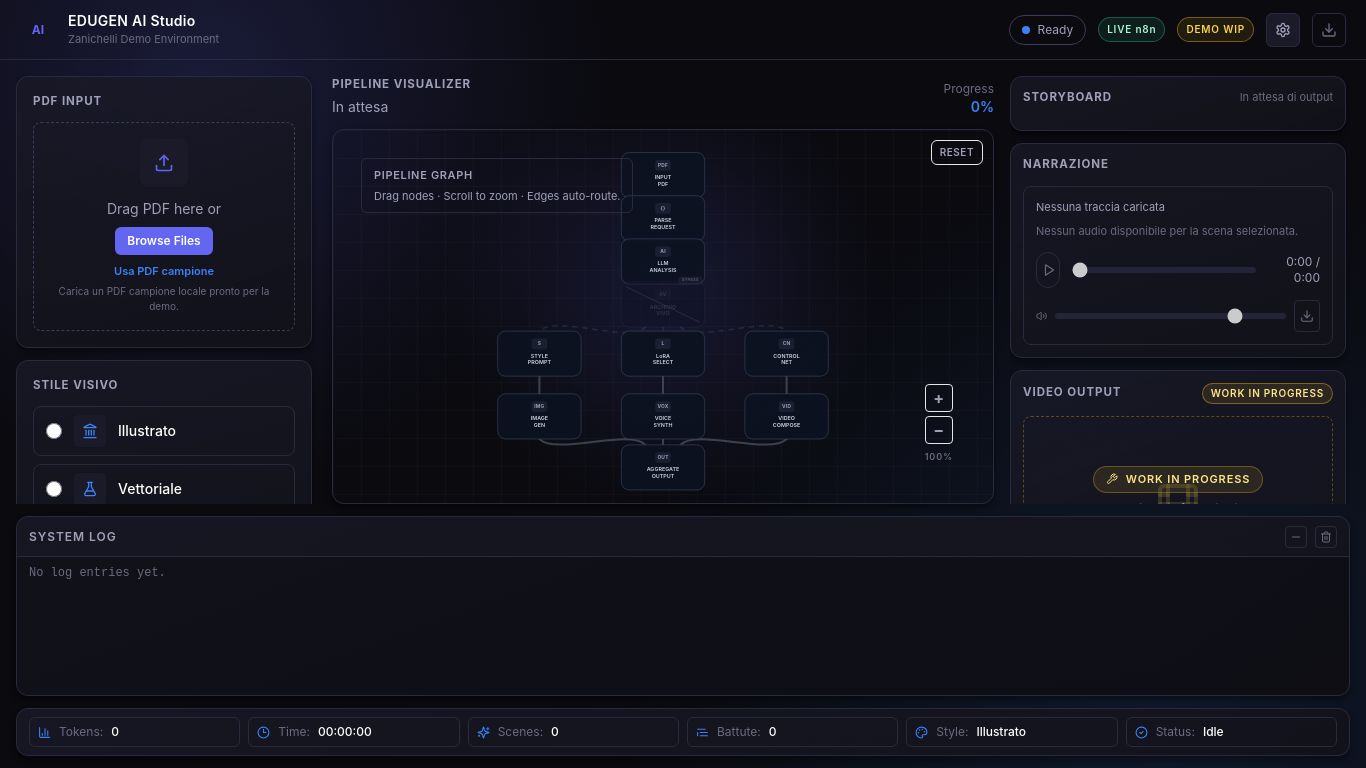
Test: App failure and degraded paths › fails safely on requestId mismatch
The width and height of the screenshot is (1366, 768).
Click the button "Usa PDF campione". click: click(164, 272)
box: 114,263 -> 214,280
(page scrolled)
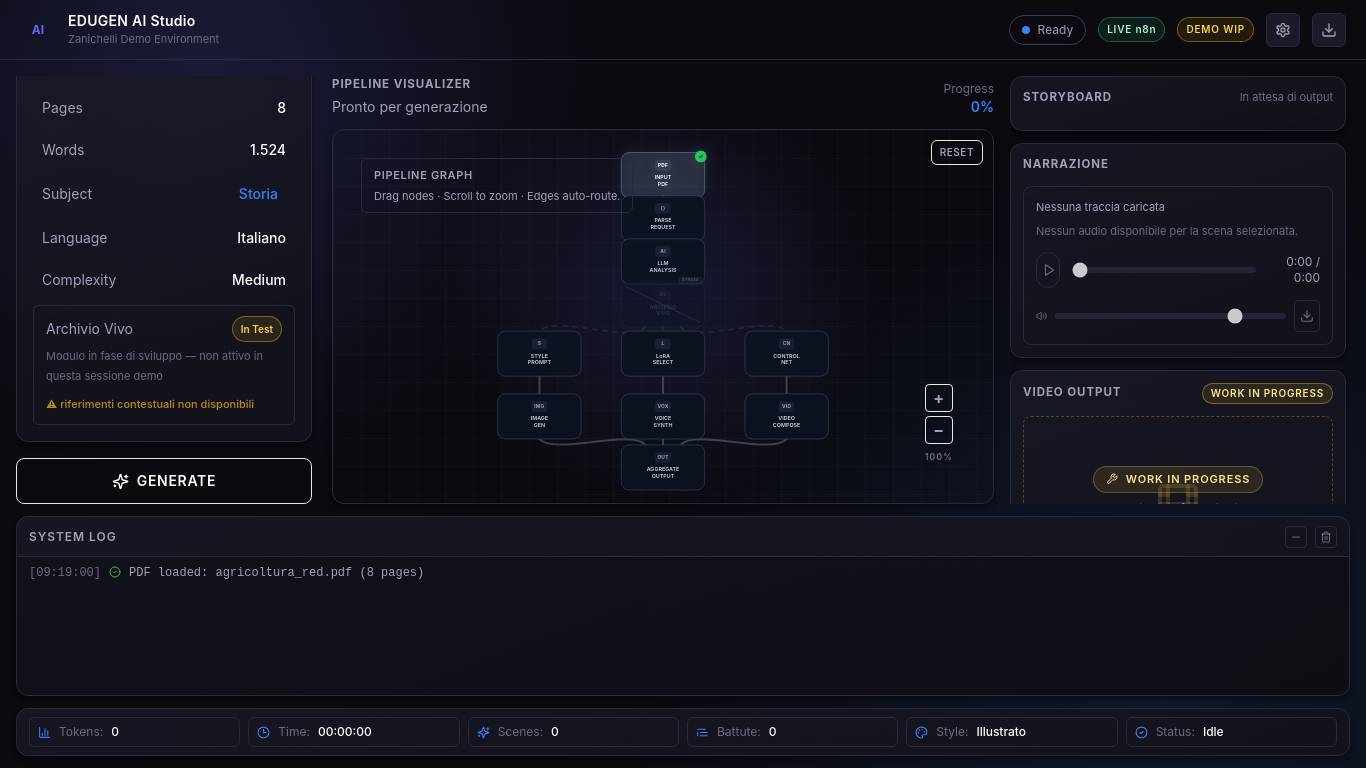
Click the button "GENERATE". click: click(164, 481)
box: 16,458 -> 312,504
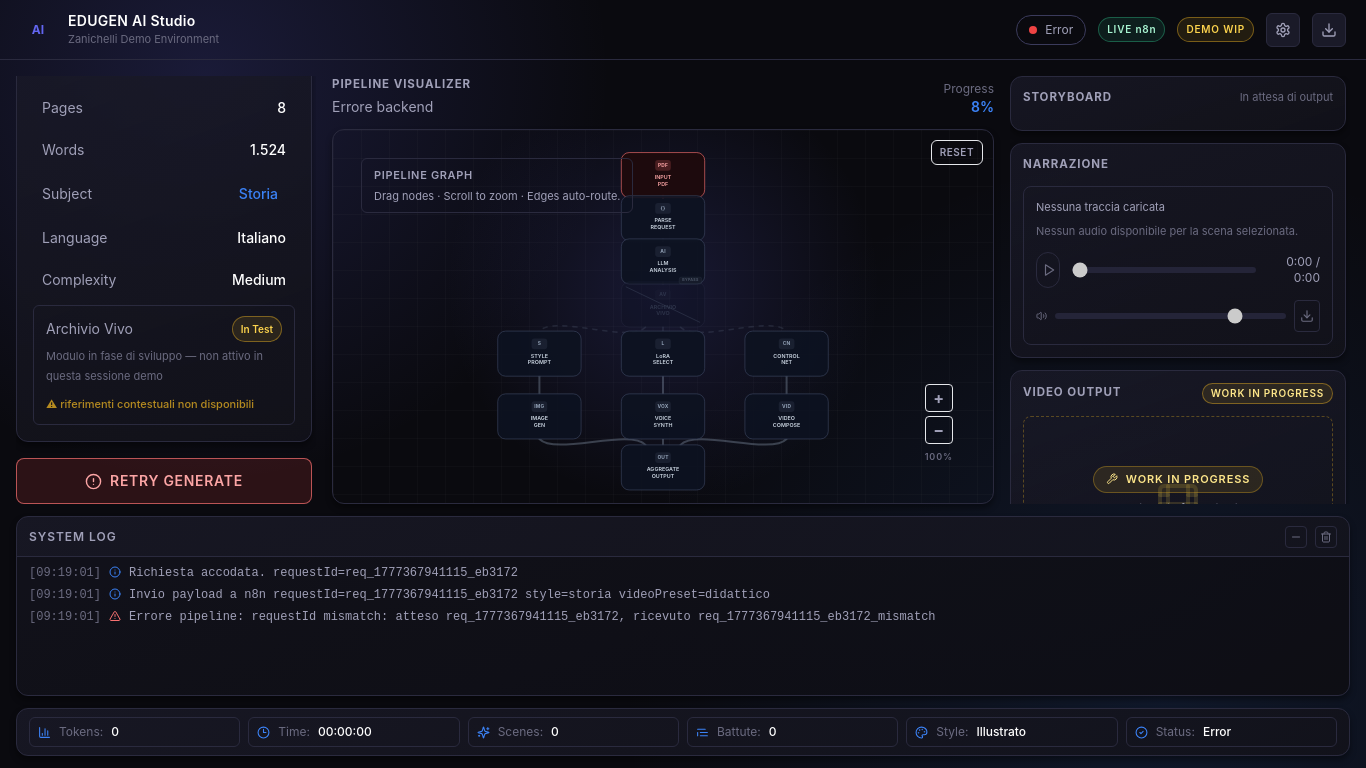
Now the text "requestId mismatch" is shown, box 129,610 -> 936,624
